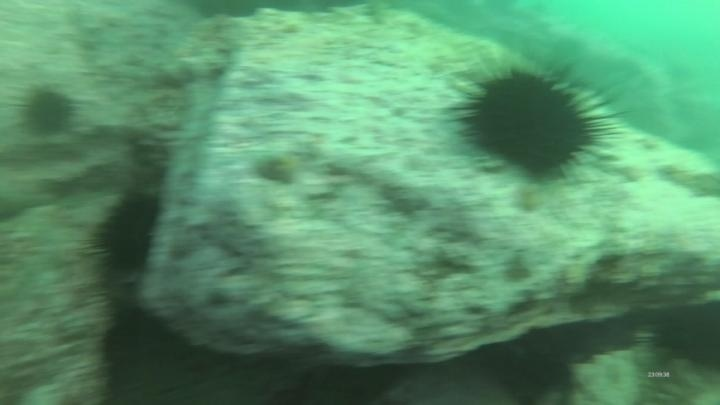echinus: (450, 59, 612, 186), (87, 188, 164, 282), (645, 296, 720, 375), (15, 82, 80, 142)
